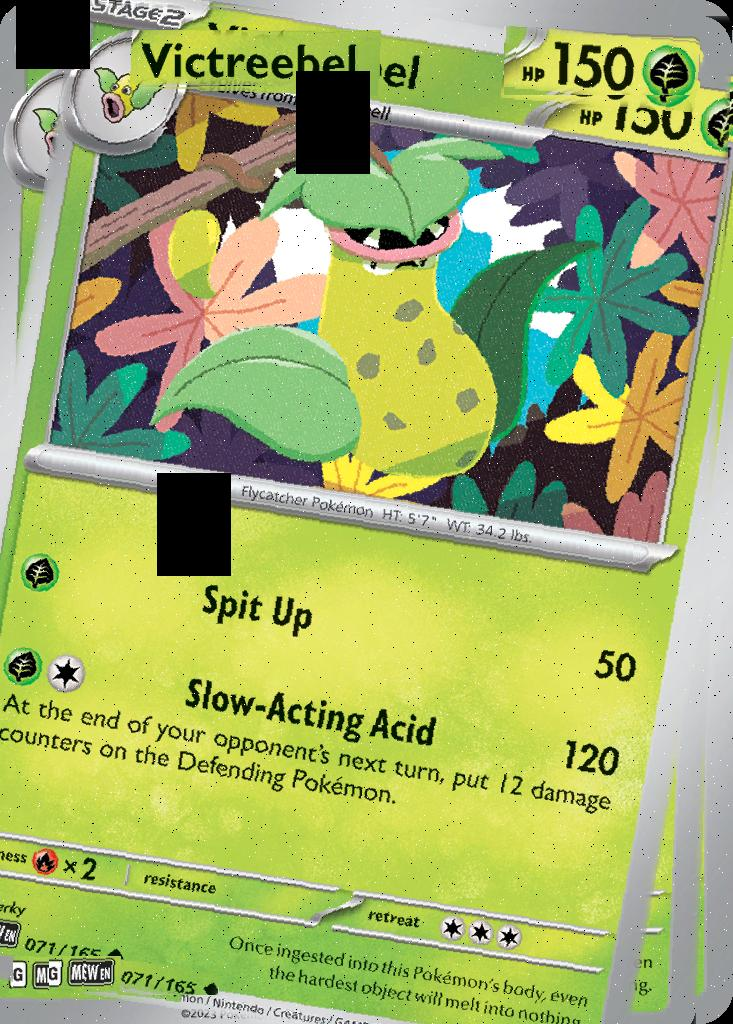card: (0, 0, 733, 1024)
hp: (505, 26, 701, 95)
name: (133, 30, 381, 87)
set num: (118, 960, 220, 995)
set symbol: (49, 956, 121, 994)
